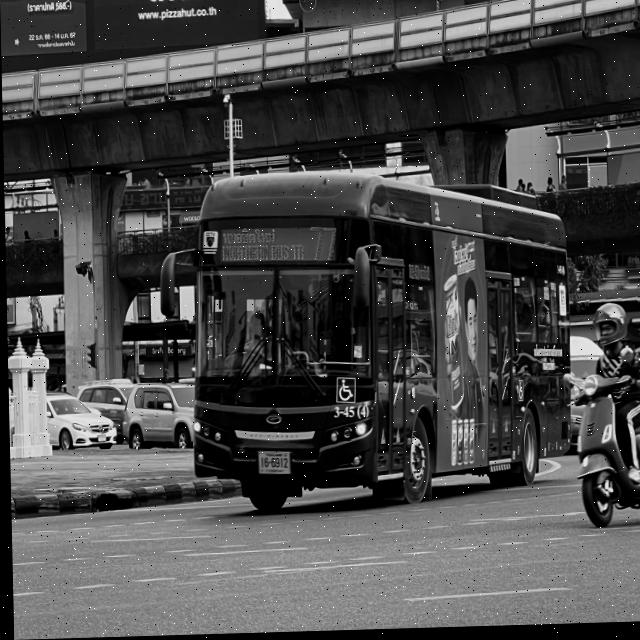Bus Line Number: (305, 223, 342, 266)
Bus Side Number: (331, 403, 368, 425)
Destination Sign: (218, 223, 307, 267)
TSB-Bus: (191, 173, 571, 516)
